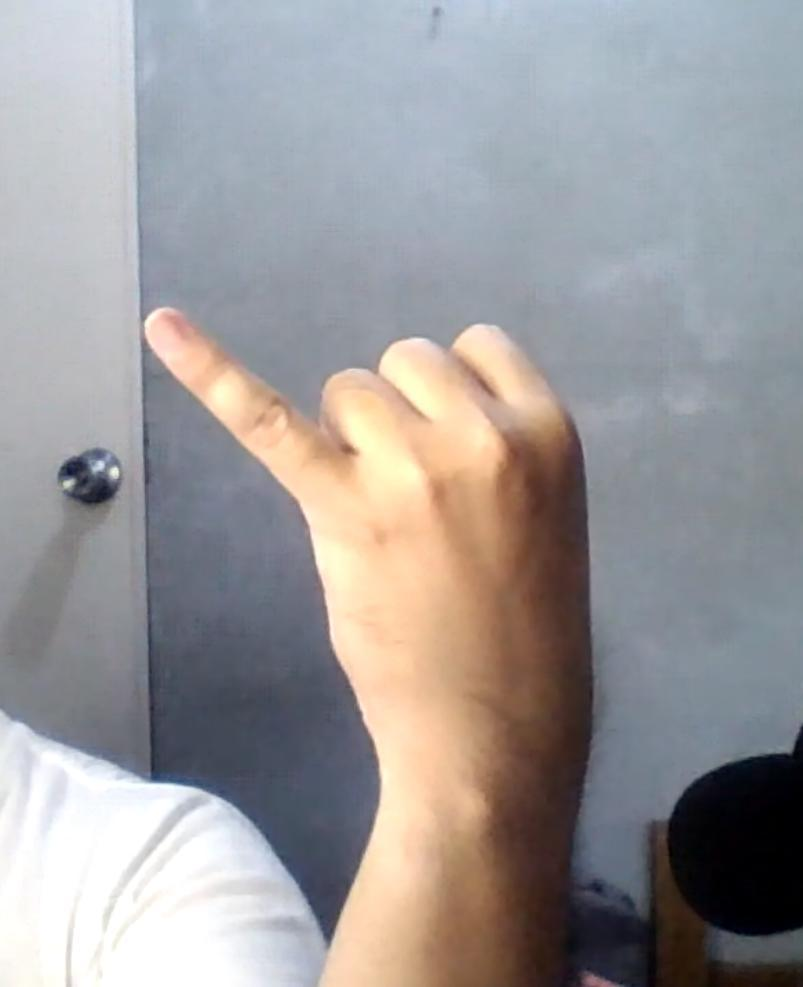j: (137, 297, 591, 705)
